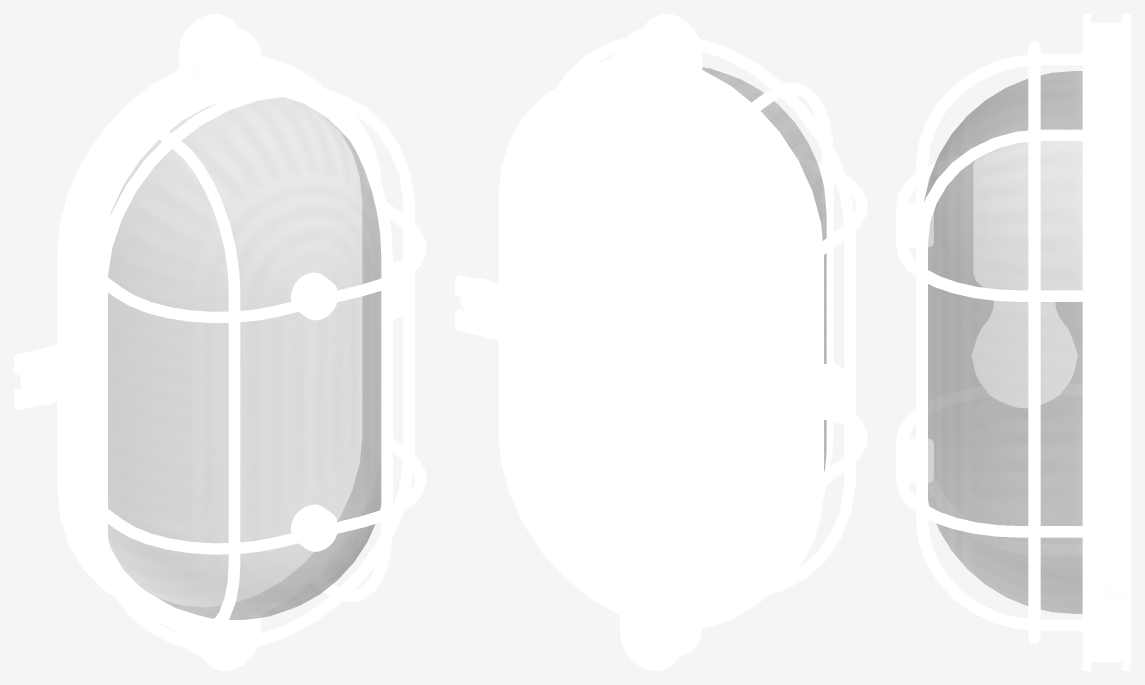
File: industrial_wall_lamp.gltf
3 views of the same model, side by side, from view 1: azimuth 30°, elevation 25°; view 2: azimuth 150°, elevation 25°; view 3: azimuth 270°, elevation 25° (orthographic).
Visible parts, largest first — view 1: industrial_wall_lamp; view 2: industrial_wall_lamp; view 3: industrial_wall_lamp.
Boxes of the visible parts, <box> form: industrial_wall_lamp: <box>14,14,426,670</box>; industrial_wall_lamp: <box>455,14,867,670</box>; industrial_wall_lamp: <box>896,14,1130,670</box>.
Bounding box in the file's own units: 0.2735 × 0.4299 × 0.1404.
Materials: 2 (2 with a texture image).
